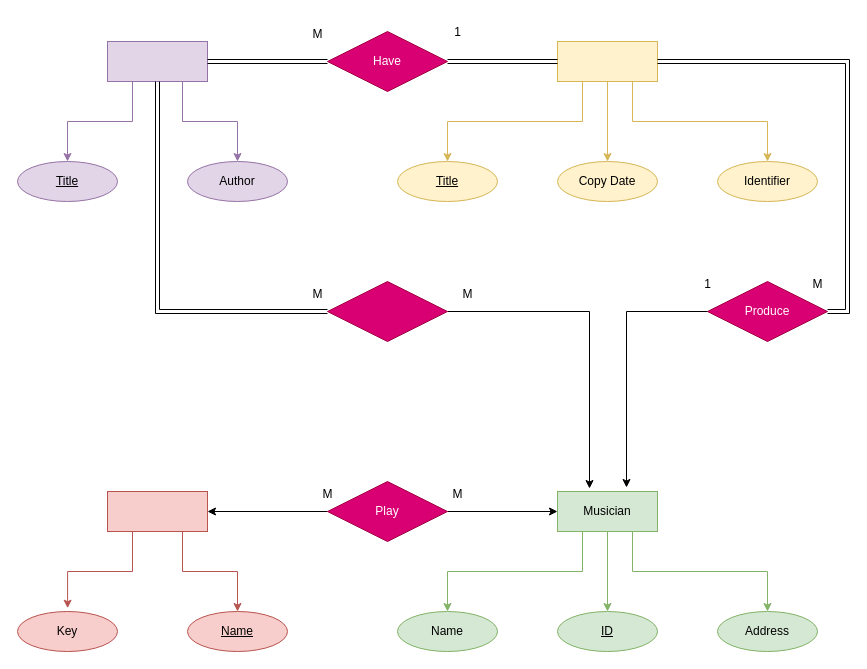
This 867x669 diagram has some shape labels left out. The shapes that lost their labels are listed below. From the top down, each one's centre as x and y in pixels, then its label:
(x=157, y=61): Song
(x=607, y=61): Album
(x=387, y=311): Perform
(x=157, y=511): Instrument
